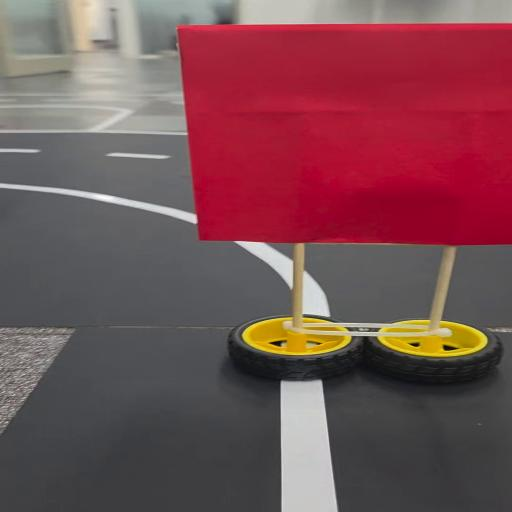Sign_A: (193, 24, 512, 383)
